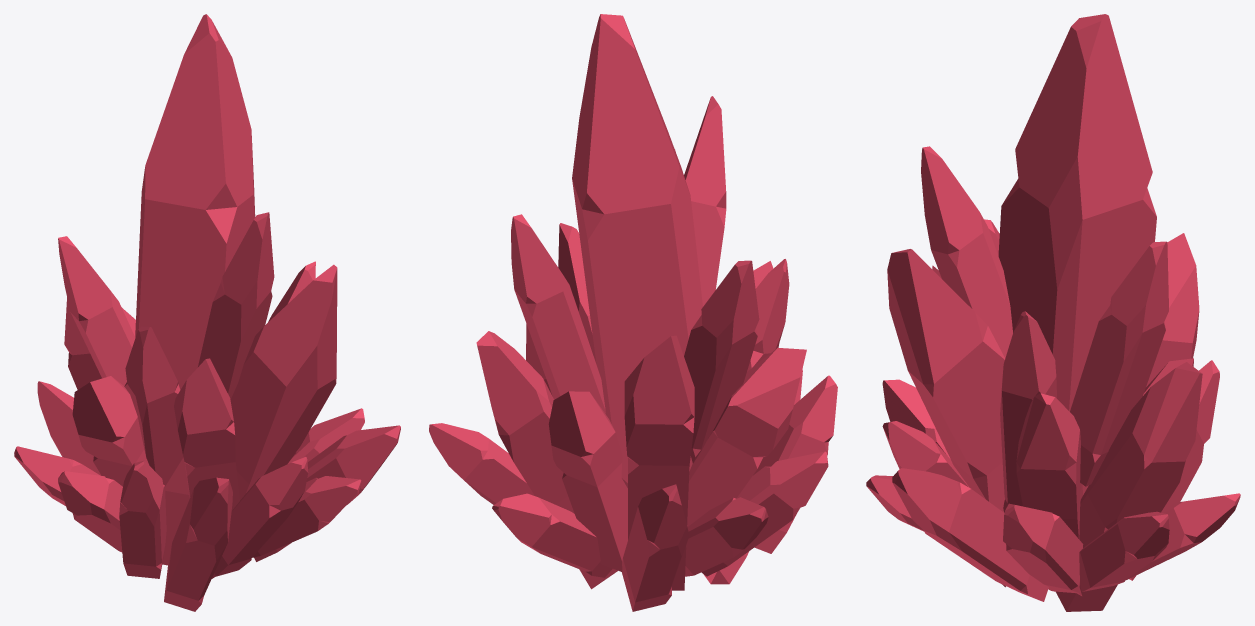
Rendered from SM_Crysrtal_Medium_2.fbx.
The picture shows the model from 3 angles, left to right: view 1: azimuth 30°, elevation 25°; view 2: azimuth 150°, elevation 25°; view 3: azimuth 270°, elevation 25°; orthographic projection. The views are drawn at different scales.
Visible parts, largest first — view 1: SM_Crysrtal_Medium_2; view 2: SM_Crysrtal_Medium_2; view 3: SM_Crysrtal_Medium_2.
Part boxes in pixels (<box>): SM_Crysrtal_Medium_2: <box>14,14,400,611</box>; SM_Crysrtal_Medium_2: <box>429,14,837,611</box>; SM_Crysrtal_Medium_2: <box>866,14,1240,611</box>.
Size of the model in its own units: 315 by 526 by 296.
